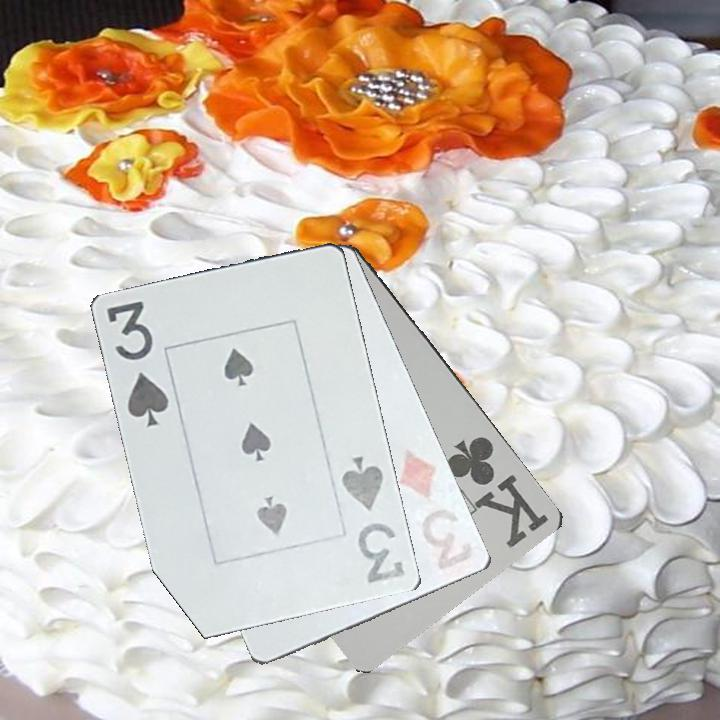3d: (390, 446, 477, 580)
3s: (338, 452, 408, 588), (104, 298, 173, 431)
Kc: (444, 432, 552, 551)
